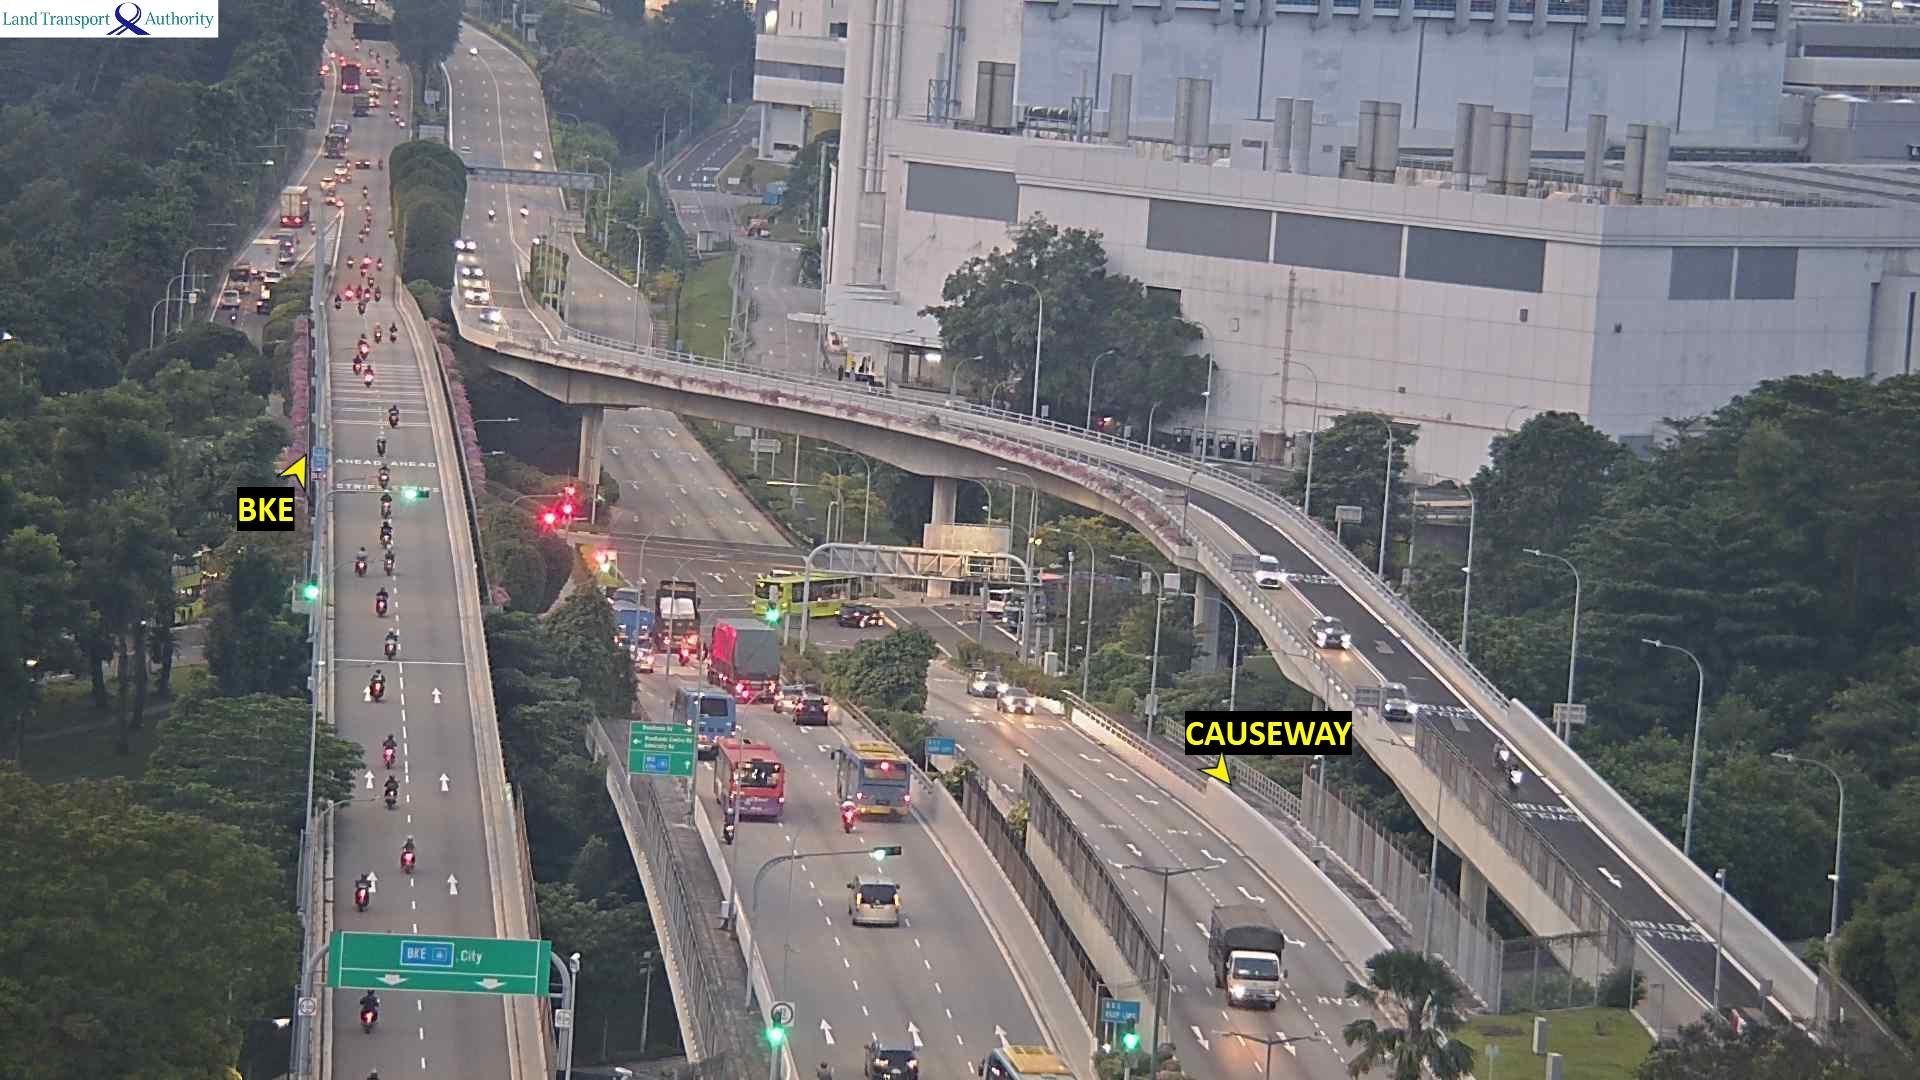vehicle-causeway-johor: (463, 286, 491, 303), (462, 262, 485, 276), (458, 237, 477, 252), (487, 206, 497, 224)
vehicle-causeway-singapore: (1209, 905, 1284, 1007), (709, 618, 777, 700), (836, 741, 910, 815), (717, 737, 785, 807), (674, 688, 733, 754), (978, 1040, 1076, 1080), (848, 873, 898, 923), (865, 1034, 919, 1080), (658, 580, 699, 641), (1307, 613, 1349, 651), (1379, 682, 1415, 717), (998, 686, 1035, 716), (1253, 554, 1284, 588), (794, 698, 827, 727), (968, 673, 1007, 696), (636, 638, 661, 674), (360, 989, 377, 1034), (353, 872, 369, 915), (401, 835, 415, 870), (1507, 760, 1523, 791), (1493, 738, 1507, 771), (382, 735, 396, 769), (385, 775, 398, 808), (371, 670, 384, 702), (378, 520, 394, 546), (841, 798, 853, 832), (720, 812, 735, 840), (385, 628, 397, 659), (815, 1062, 835, 1080), (385, 545, 397, 574), (480, 306, 500, 323), (377, 585, 388, 617), (380, 491, 392, 517), (378, 462, 390, 488), (357, 547, 368, 575), (679, 636, 690, 662), (359, 334, 369, 359), (389, 405, 400, 427), (355, 297, 364, 318), (375, 323, 384, 343), (367, 367, 375, 389), (392, 319, 400, 342), (378, 435, 386, 456), (353, 356, 361, 375), (375, 285, 381, 302), (335, 291, 340, 310)
